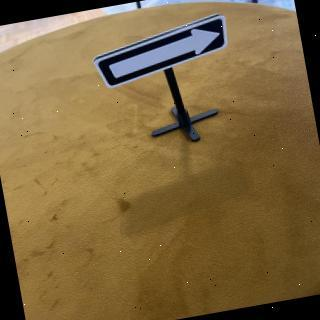sign_oneway_right: (90, 15, 237, 93)
